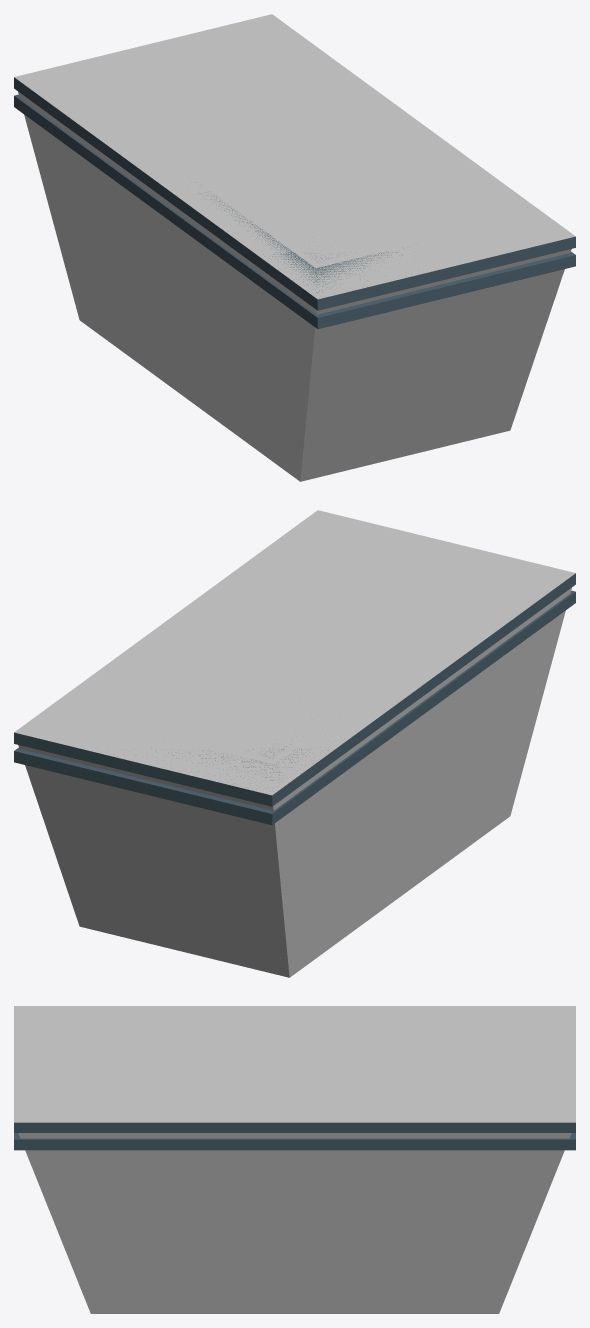
Rendered from SM_Table_04.fbx.
The picture shows the model from 3 angles, top to bottom: view 1: azimuth 30°, elevation 25°; view 2: azimuth 150°, elevation 25°; view 3: azimuth 270°, elevation 25°; orthographic projection. The views are drawn at different scales.
Parts seen in each view (by area): view 1: SM_Table_04_ConvexHulls, SM_Table_04; view 2: SM_Table_04_ConvexHulls, SM_Table_04; view 3: SM_Table_04_ConvexHulls, SM_Table_04.
Part boxes in pixels (x1,y1,x2,y2): SM_Table_04_ConvexHulls: (14,14,575,481); SM_Table_04: (14,77,575,329); SM_Table_04_ConvexHulls: (14,510,575,977); SM_Table_04: (14,573,575,825); SM_Table_04_ConvexHulls: (14,1006,575,1313); SM_Table_04: (14,1122,575,1150).
Bounding box in the file's own units: 98.12 × 200 × 79.4.
Materials: 2 (1 with a texture image).
